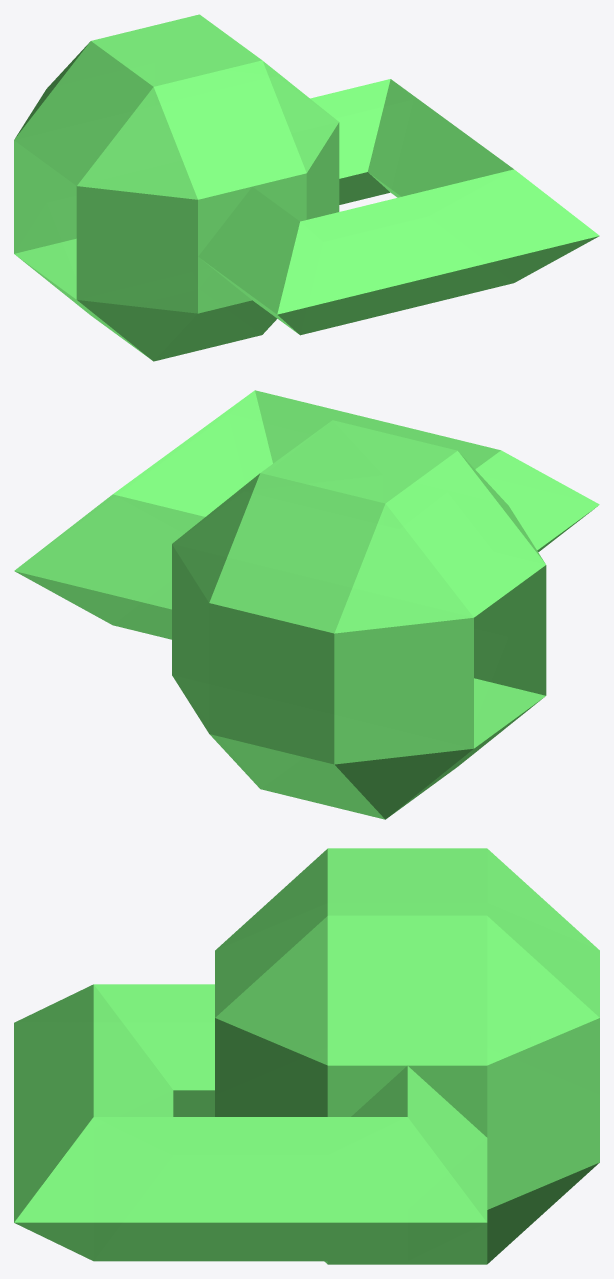
The model's file is Rhombicuboctahedron2.obj.
The picture shows the model from 3 angles, top to bottom: view 1: azimuth 30°, elevation 25°; view 2: azimuth 150°, elevation 25°; view 3: azimuth 270°, elevation 25°; orthographic projection. The views are drawn at different scales.
Bounding box in the file's own units: 4.22 × 2.77 × 4.22.
